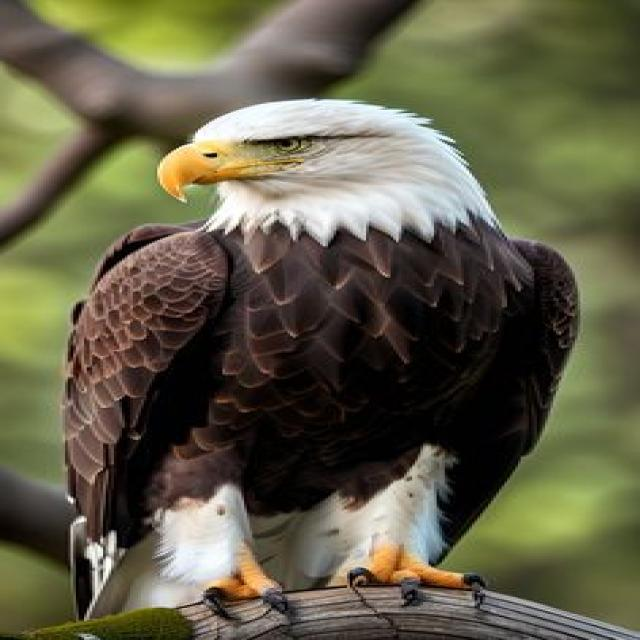Carnivorous: (60, 99, 583, 640)
